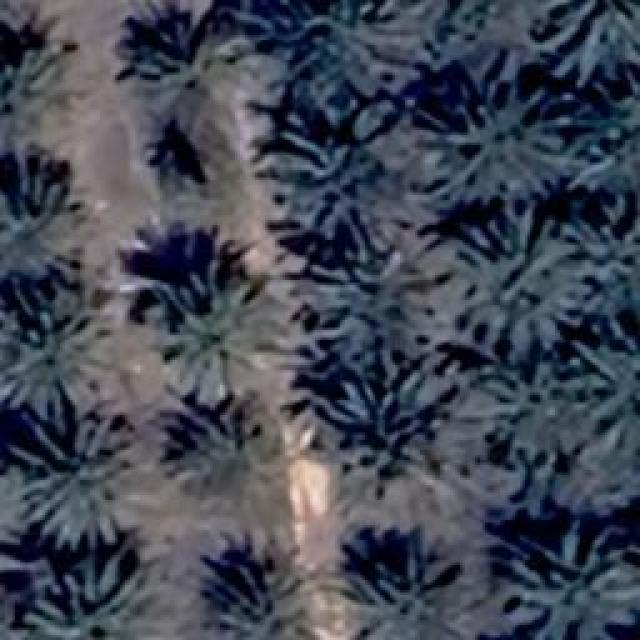PalmTree: (63, 113, 609, 328), (12, 400, 152, 550), (410, 75, 572, 203), (448, 208, 582, 358), (130, 12, 282, 138), (312, 242, 438, 380), (274, 0, 427, 112), (490, 518, 635, 632), (315, 372, 435, 498), (267, 132, 395, 250), (0, 280, 110, 415), (17, 547, 165, 635), (340, 542, 468, 638), (170, 400, 282, 500), (0, 168, 88, 280), (570, 310, 635, 458), (568, 67, 638, 195), (484, 355, 568, 460), (208, 560, 310, 638), (525, 4, 640, 72), (0, 47, 65, 135), (0, 472, 25, 596)
